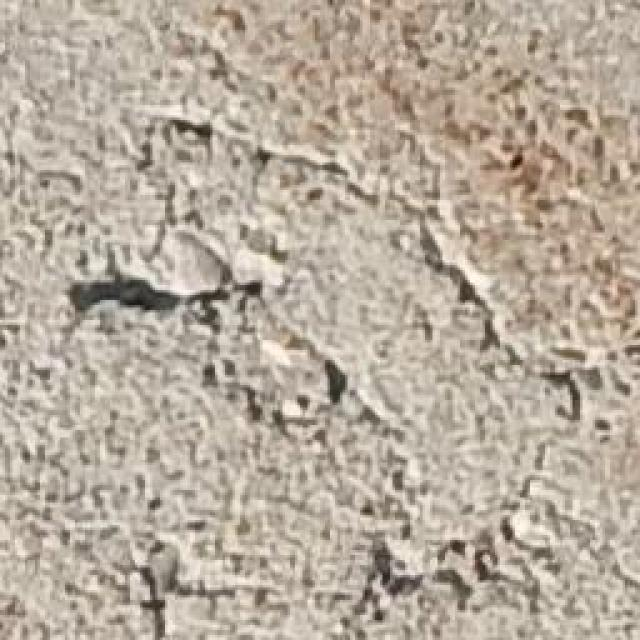concrete-crack: (125, 106, 591, 640), (55, 266, 357, 454)
